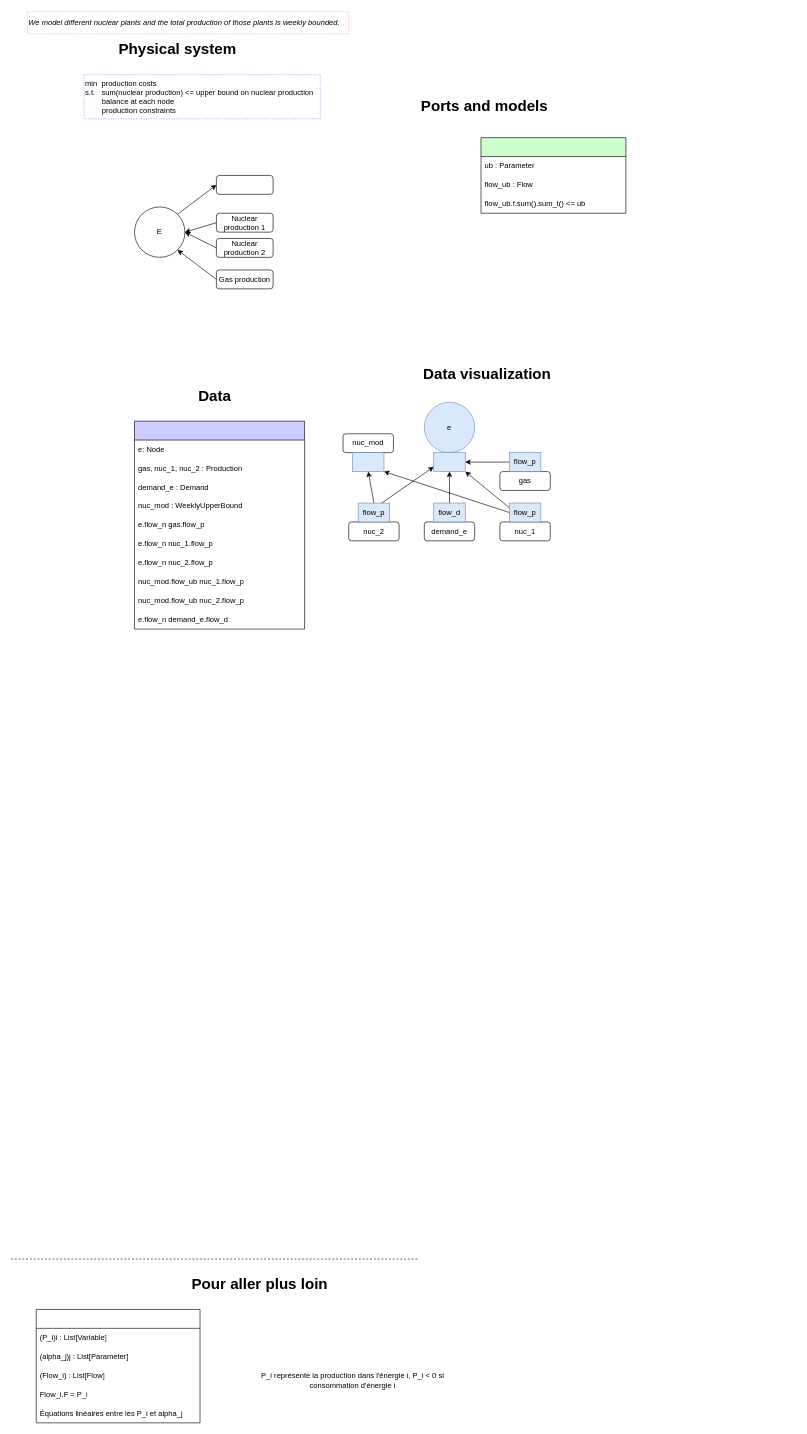
Some shapes in this 807 by 1434 pixel diagram are drawn without their labels. Each missing label, with the box of its shape:
"Méta" Convertisseur à n pattes: (36, 1309, 200, 1423)
Elec demand: (216, 175, 273, 194)
File "network.txt": (134, 421, 305, 629)
flow_n: (433, 452, 465, 472)
flow_ub: (352, 452, 384, 472)
WeeklyUpperBound : Model: (480, 137, 626, 213)
